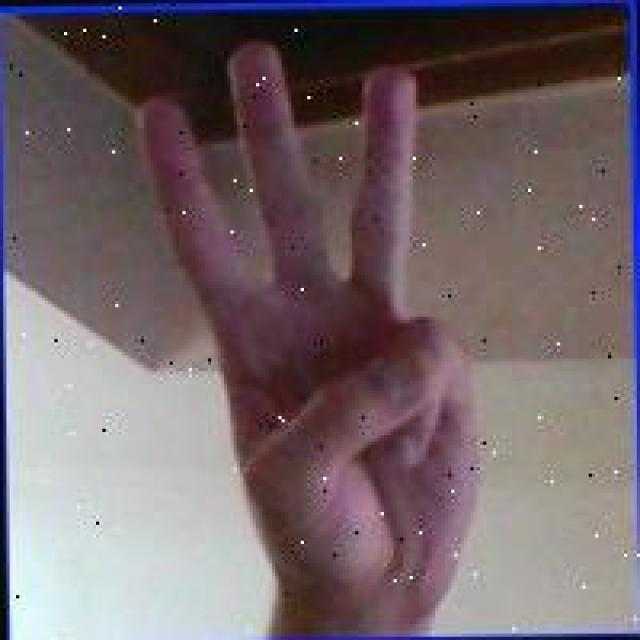W: (125, 32, 483, 611)
